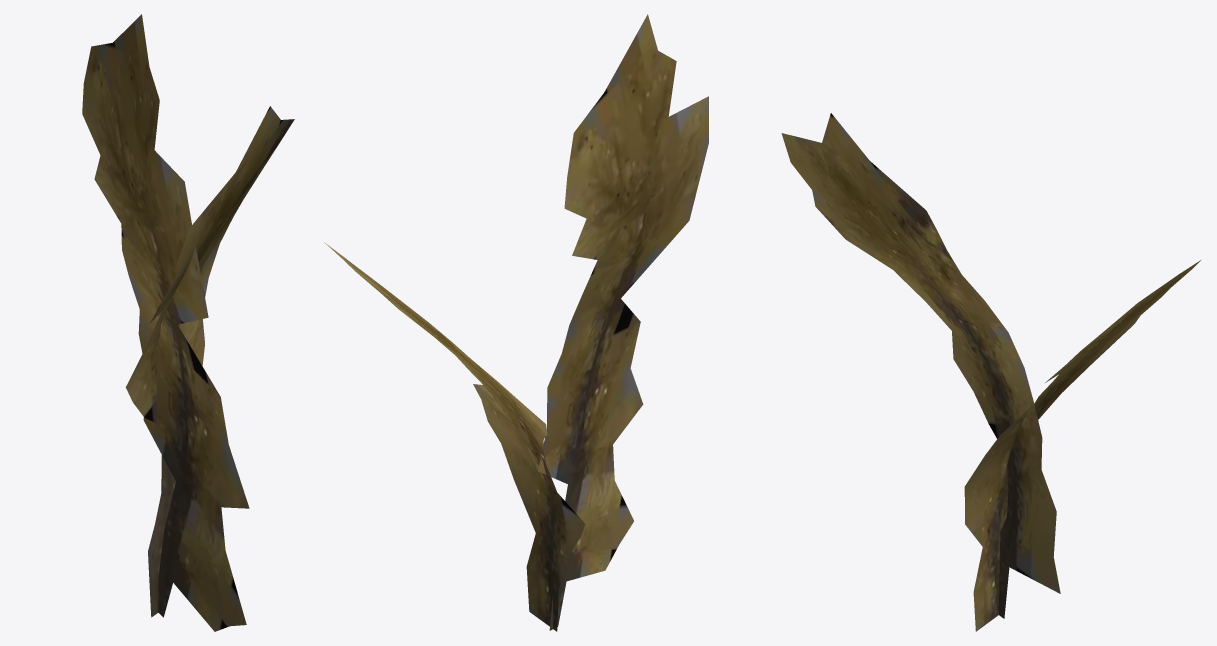
The model's file is Seaweed_C4-transformed.glb.
3 renders of one model, left to right at view 1: azimuth 30°, elevation 25°; view 2: azimuth 150°, elevation 25°; view 3: azimuth 270°, elevation 25°, orthographic. The views are drawn at different scales.
Visible parts, largest first — view 1: Seaweed_C4; view 2: Seaweed_C4; view 3: Seaweed_C4.
Boxes of the visible parts, x1,y1,x2,y2 form: Seaweed_C4: (82,14,294,631); Seaweed_C4: (324,14,708,631); Seaweed_C4: (781,113,1200,631).
Size of the model in its own units: 0.1246 by 0.2842 by 0.1882.
1 material, 1 textured.
